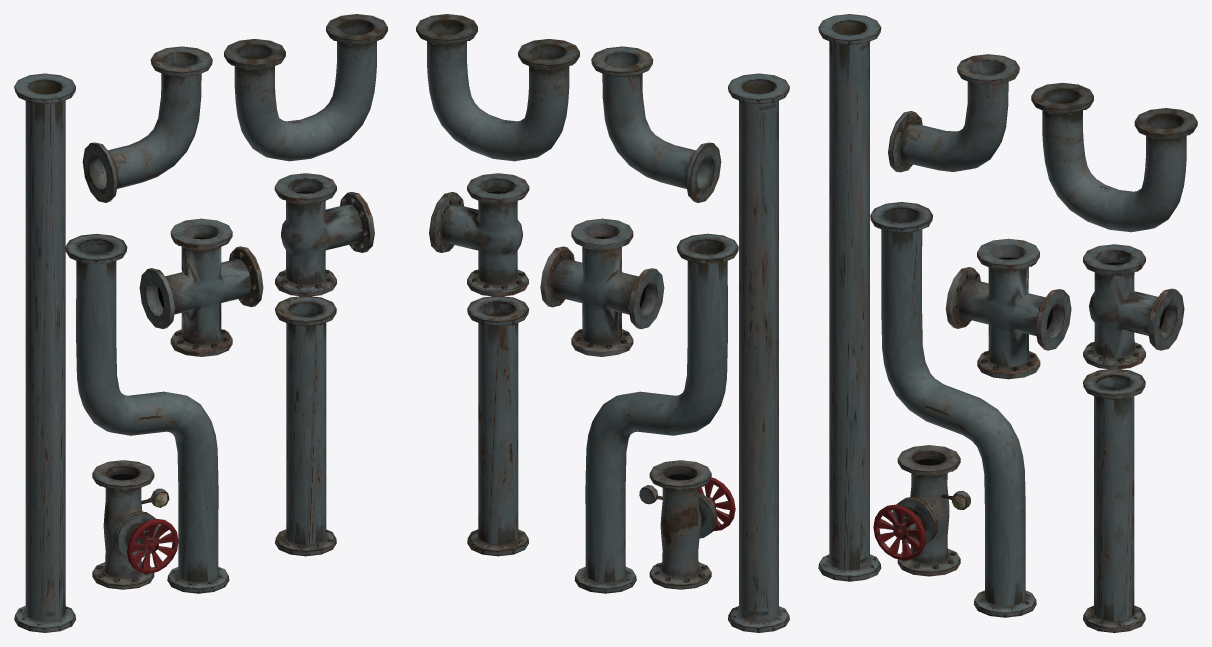
Rendered from modular-industrial-pipes-01.glb.
3 renders of one model, left to right at view 1: azimuth 30°, elevation 25°; view 2: azimuth 150°, elevation 25°; view 3: azimuth 330°, elevation 25°, orthographic.
Parts seen in each view (by area): view 1: modular_industrial_pipes_01; view 2: modular_industrial_pipes_01; view 3: modular_industrial_pipes_01.
Boxes of the visible parts, x1=… form: modular_industrial_pipes_01: x1=14, y1=14, x2=387, y2=632; modular_industrial_pipes_01: x1=416, y1=14, x2=789, y2=632; modular_industrial_pipes_01: x1=818, y1=14, x2=1197, y2=632.
Size of the model in its own units: 1.4 by 1.95 by 0.3073.
Materials: 2 (2 with a texture image).
